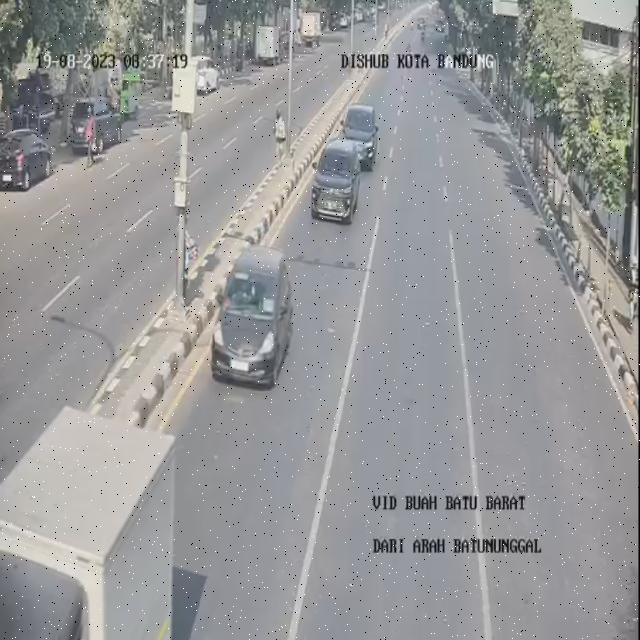cars: (215, 245, 296, 391), (307, 139, 365, 230), (340, 104, 378, 164)
truck: (0, 399, 191, 639)
